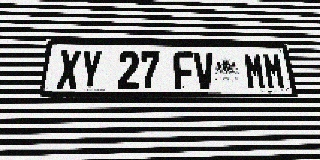2: (118, 51, 139, 89)
7: (139, 51, 160, 89)
F: (174, 52, 195, 89)
M: (243, 53, 267, 89), (262, 53, 286, 89)
V: (194, 52, 216, 89)
X: (56, 50, 81, 89)
Y: (79, 50, 103, 89)
